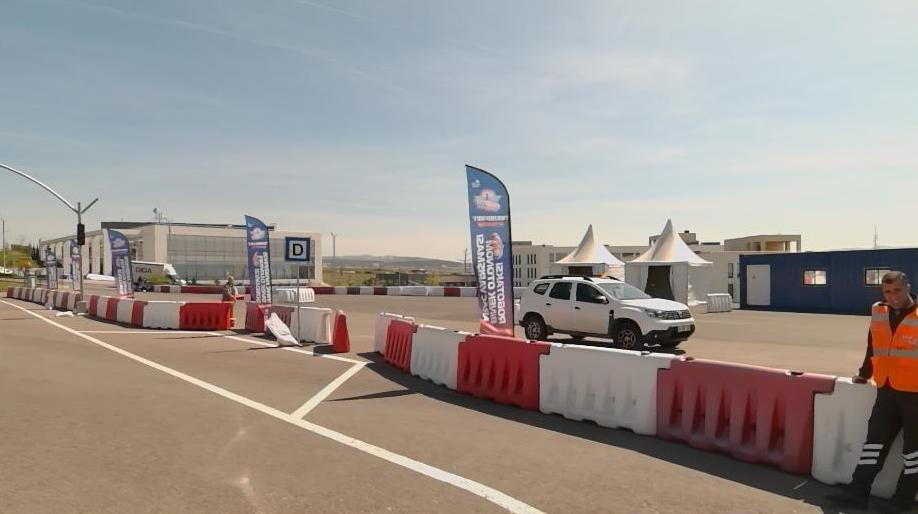nesne: (0, 297, 547, 513), (1, 299, 546, 513), (64, 328, 365, 424), (69, 329, 364, 415), (657, 354, 834, 475), (831, 269, 917, 511), (519, 273, 696, 348), (539, 342, 673, 436), (457, 332, 551, 412), (812, 377, 874, 485), (409, 323, 465, 388), (382, 318, 417, 371), (7, 286, 77, 311), (373, 311, 414, 353), (290, 307, 332, 343), (179, 301, 230, 329), (131, 260, 187, 284), (264, 313, 300, 345), (142, 300, 182, 326), (330, 310, 351, 352), (284, 236, 311, 262), (245, 302, 267, 332), (389, 285, 443, 297), (117, 296, 134, 323), (268, 306, 293, 322), (185, 285, 223, 294), (131, 301, 145, 325), (96, 294, 109, 318), (106, 296, 118, 321), (273, 289, 294, 302), (87, 295, 98, 317), (301, 287, 315, 303), (445, 287, 461, 297), (373, 287, 388, 295), (346, 286, 359, 295), (334, 286, 346, 295), (171, 286, 183, 295), (150, 285, 163, 293), (361, 285, 371, 294), (164, 286, 170, 294)
